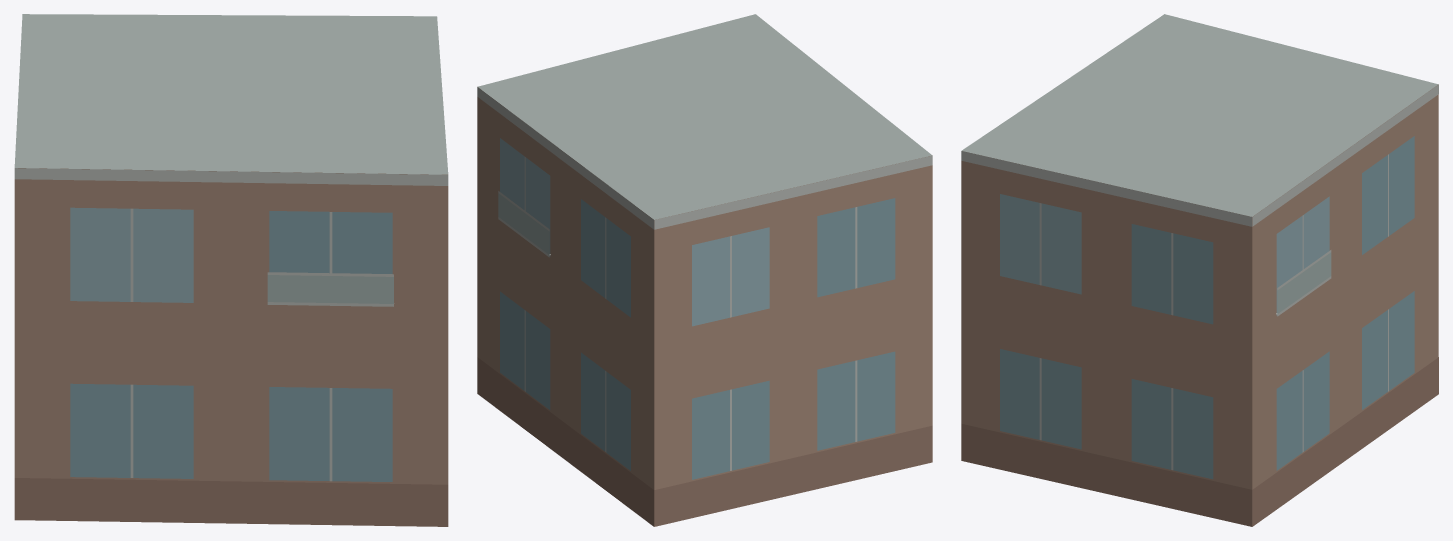
Rendered from survey-upis-32546733.glb.
3 views of the same model, side by side, from view 1: azimuth 30°, elevation 25°; view 2: azimuth 150°, elevation 25°; view 3: azimuth 270°, elevation 25° (orthographic). The views are drawn at different scales.
Parts seen in each view (by area): view 1: survey-upis-32546733.tmp; view 2: survey-upis-32546733.tmp; view 3: survey-upis-32546733.tmp.
Boxes of the visible parts, bbox=[...] form: survey-upis-32546733.tmp: bbox=[14, 14, 448, 526]; survey-upis-32546733.tmp: bbox=[477, 14, 932, 526]; survey-upis-32546733.tmp: bbox=[961, 14, 1438, 526].
Size of the model in its own units: 10.68 by 7.6 by 10.62.
